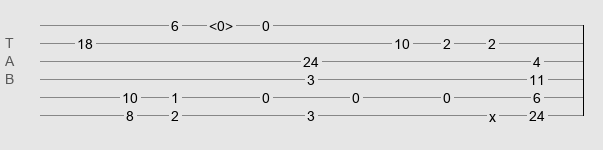0: (262, 90, 270, 100), (262, 18, 270, 28), (352, 90, 360, 100), (443, 90, 451, 100)
1: (171, 90, 179, 100)
10: (122, 90, 138, 100), (394, 36, 410, 46)
11: (529, 72, 545, 82)
18: (77, 36, 93, 46)
2: (171, 108, 179, 118), (443, 36, 451, 46), (488, 36, 496, 46)
24: (303, 54, 319, 64), (529, 108, 545, 118)
3: (307, 108, 315, 118), (307, 72, 315, 82)
4: (533, 54, 541, 64)
6: (171, 18, 179, 28), (533, 90, 541, 100)
8: (126, 108, 134, 118)
harmonic: (209, 18, 233, 28)
x: (489, 109, 496, 117)
